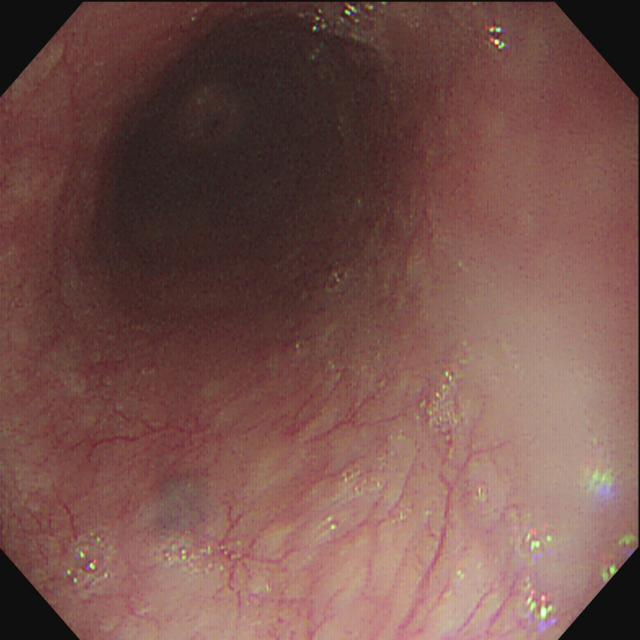E: (101, 36, 339, 290)
T: (149, 530, 250, 579), (418, 362, 467, 445), (60, 529, 115, 598), (513, 524, 561, 560)
U: (586, 470, 622, 497), (526, 592, 557, 623), (486, 23, 507, 53)
